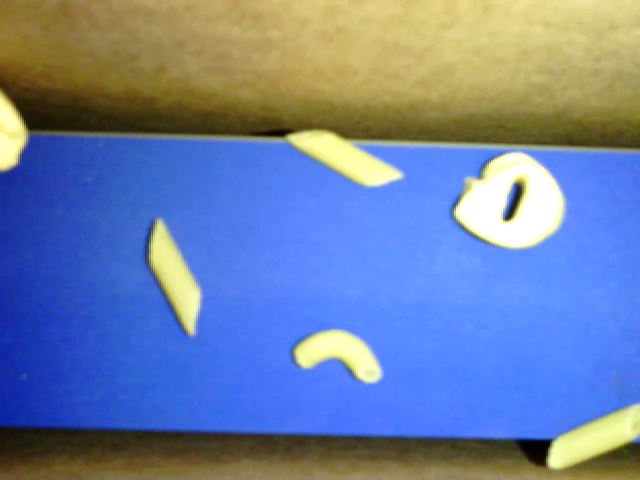elbow: (292, 329, 381, 384)
penne: (286, 129, 405, 187), (146, 216, 202, 337), (547, 402, 639, 472)
tortellini: (451, 151, 567, 249)
